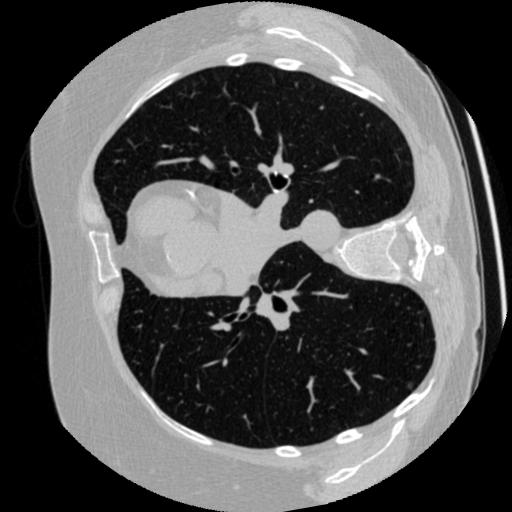nodule: (402, 380, 416, 394)
